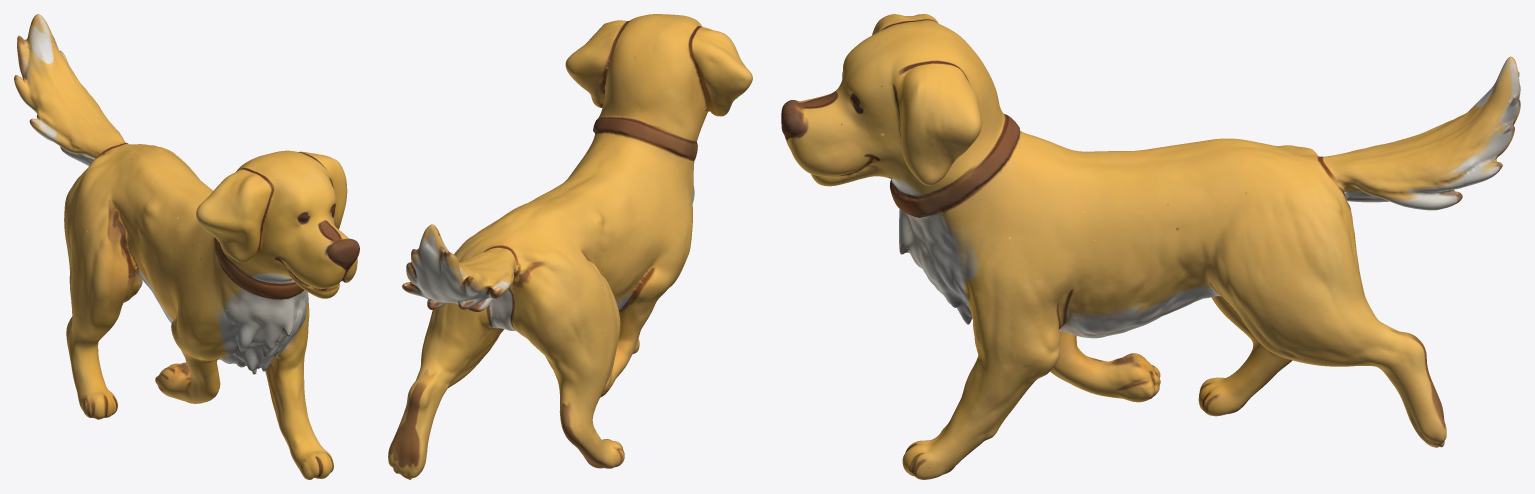
File: pet_dog_walk_2.glb
The picture shows the model from 3 angles, left to right: view 1: azimuth 30°, elevation 25°; view 2: azimuth 150°, elevation 25°; view 3: azimuth 270°, elevation 25°; orthographic projection. The views are drawn at different scales.
Visible parts, largest first — view 1: Mesh_0.010; view 2: Mesh_0.010; view 3: Mesh_0.010.
Boxes of the visible parts, x1,y1,x2,y2 form: Mesh_0.010: (14,14,359,479); Mesh_0.010: (388,14,752,479); Mesh_0.010: (781,14,1520,479).
Size of the model in its own units: 0.6274 by 1.25 by 2.
1 material, 1 textured.
